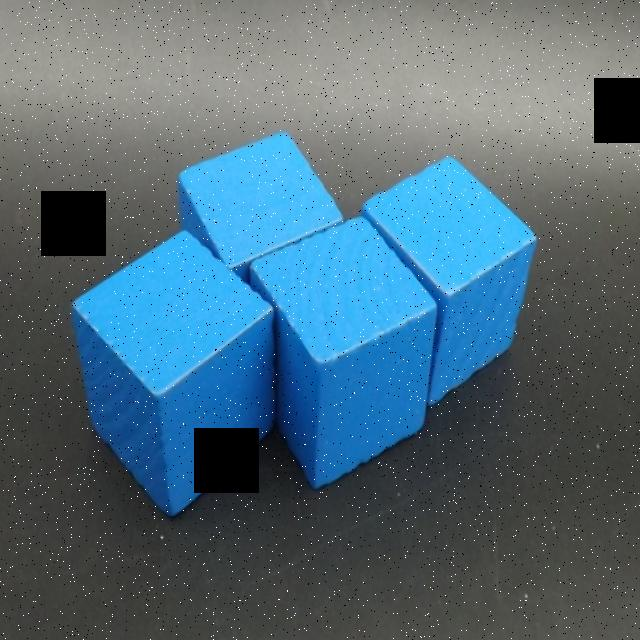bluecube: (71, 226, 275, 518), (248, 216, 437, 491), (360, 153, 538, 408), (178, 130, 344, 286)
